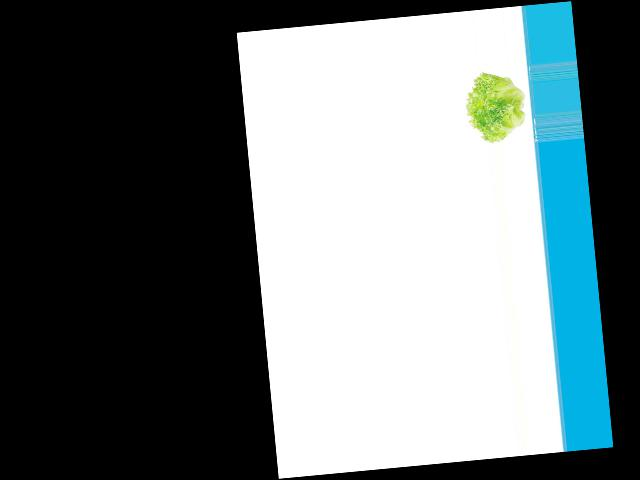lettuce: (461, 70, 532, 145)
